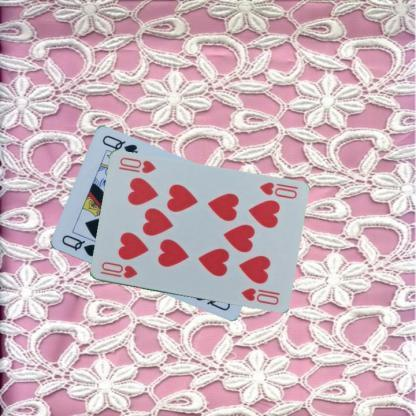10h: (97, 260, 139, 280), (256, 180, 298, 200)
Qs: (58, 232, 98, 258)
